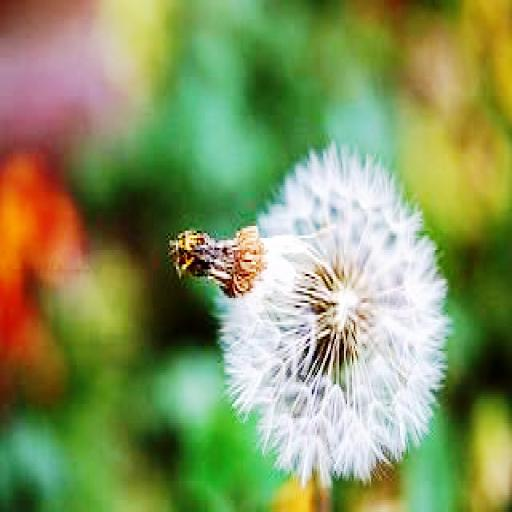dandelion: (218, 142, 451, 478)
